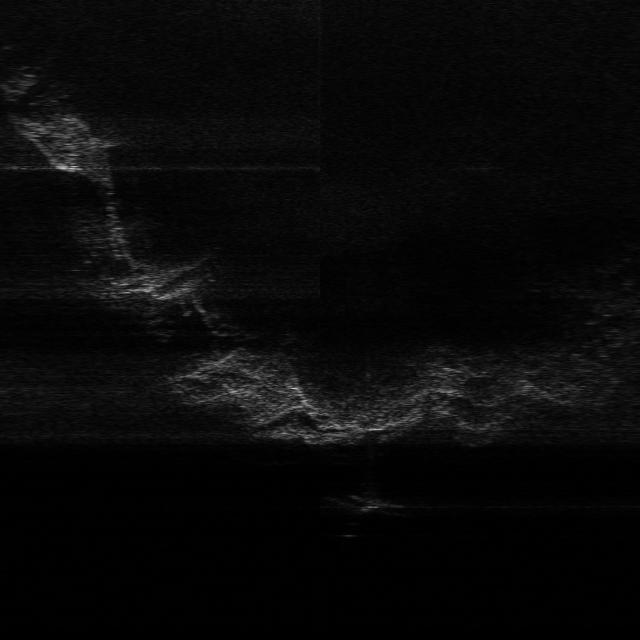plane: (330, 487, 410, 520)
